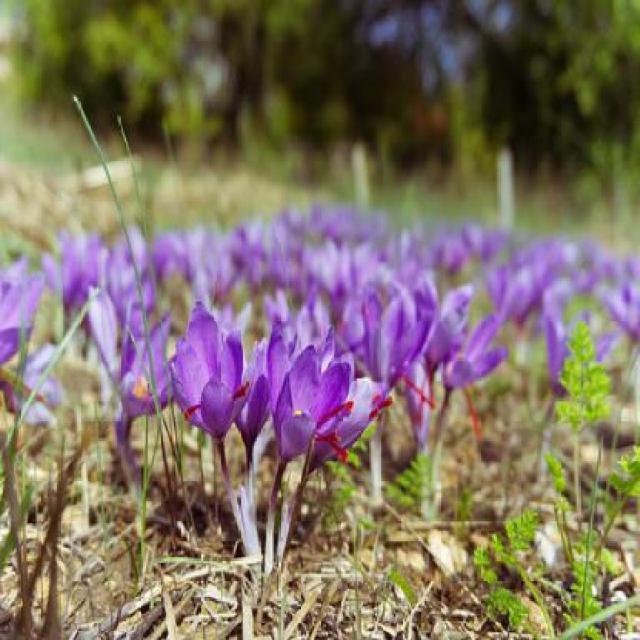Flower: (262, 328, 346, 464), (101, 300, 182, 426), (173, 306, 242, 448), (437, 270, 509, 396), (362, 279, 432, 387)
stigma: (405, 374, 437, 409), (320, 399, 352, 428)
